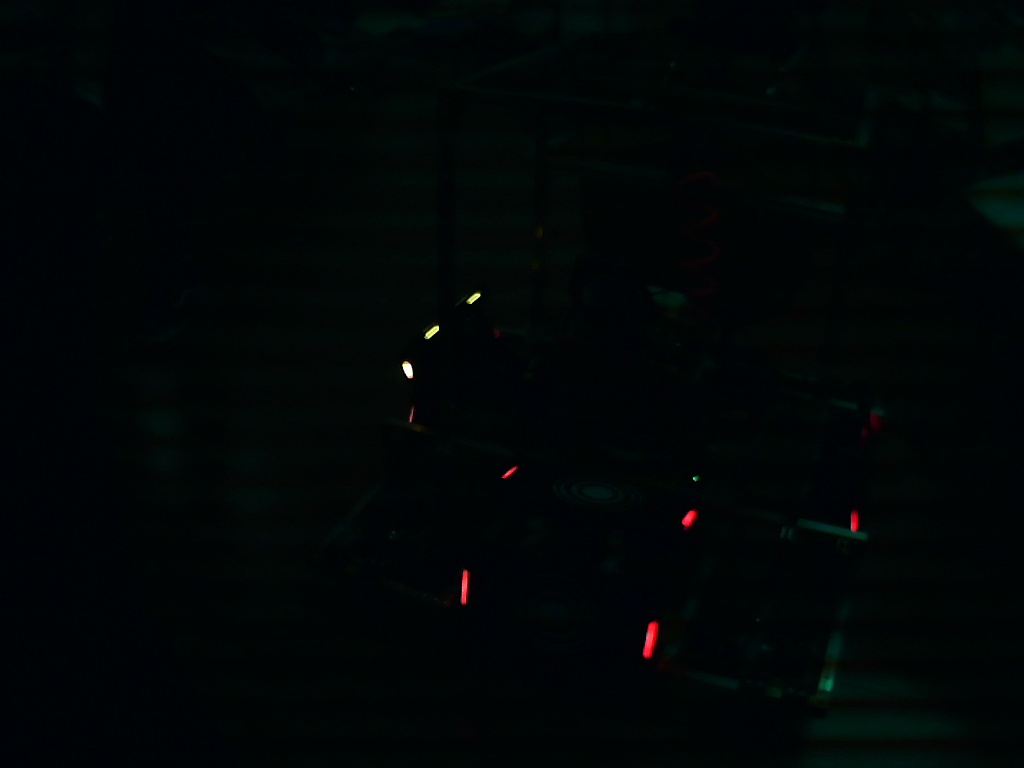lamp: (639, 618, 660, 660), (458, 566, 471, 606)
